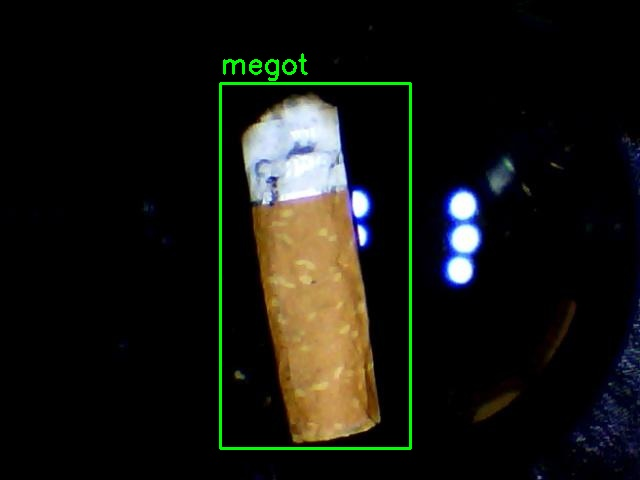megot: (220, 83, 410, 448)
